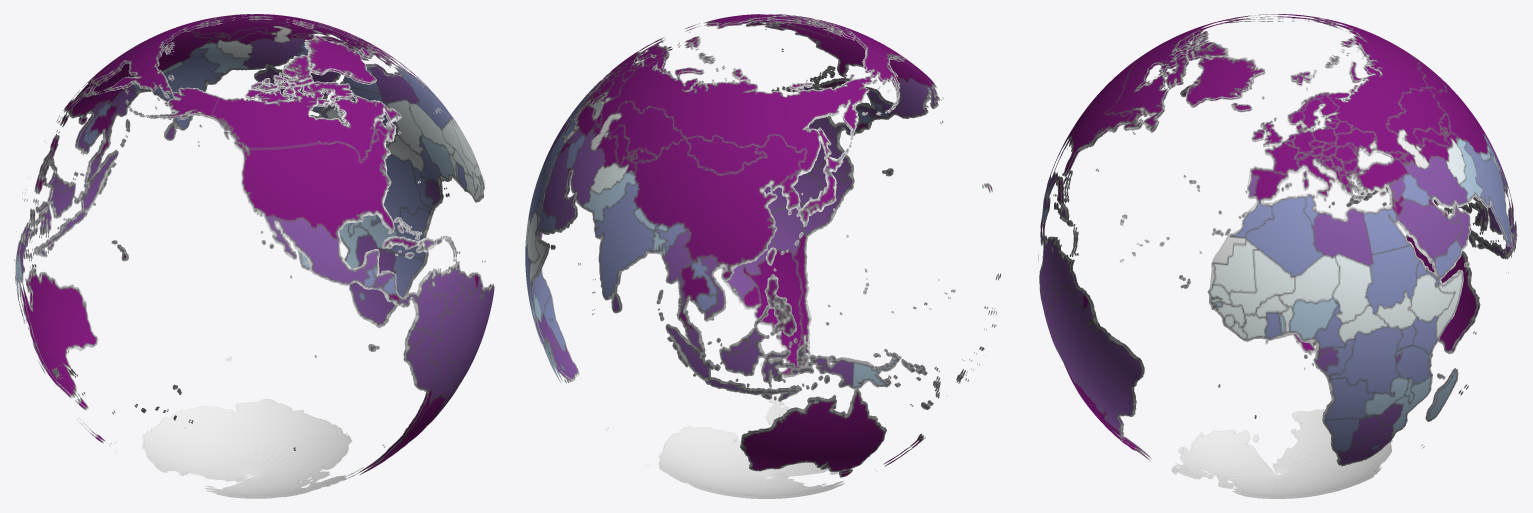
File: FinalSphere1.fbx
The picture shows the model from 3 angles, left to right: view 1: azimuth 30°, elevation 25°; view 2: azimuth 150°, elevation 25°; view 3: azimuth 270°, elevation 25°; orthographic projection.
Parts seen in each view (by area): view 1: base.001, base; view 2: base, base.001; view 3: base, base.001.
Part boxes in pixels (left/top/right/bottom): base.001: left=16, top=16, right=491, bottom=496; base: left=14, top=14, right=494, bottom=498; base: left=525, top=14, right=1000, bottom=498; base.001: left=530, top=18, right=998, bottom=496; base: left=1039, top=14, right=1517, bottom=498; base.001: left=1038, top=16, right=1514, bottom=496.
Size of the model in its own units: 197 by 200 by 197.
